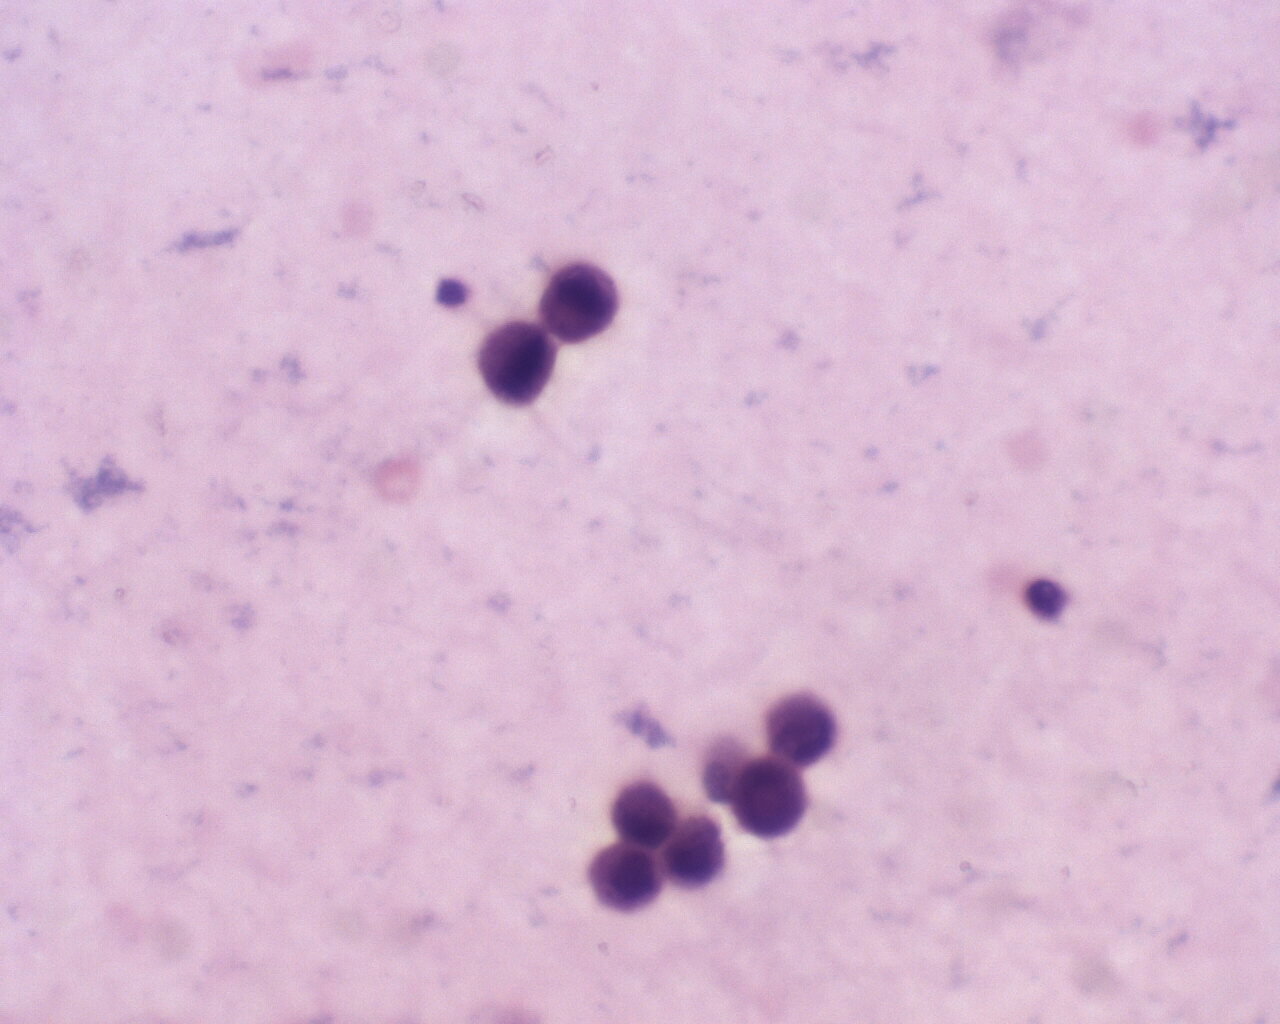ab: (476, 318, 558, 412), (537, 256, 620, 343), (736, 755, 817, 838), (764, 686, 844, 767), (658, 810, 734, 889), (583, 836, 655, 912)
